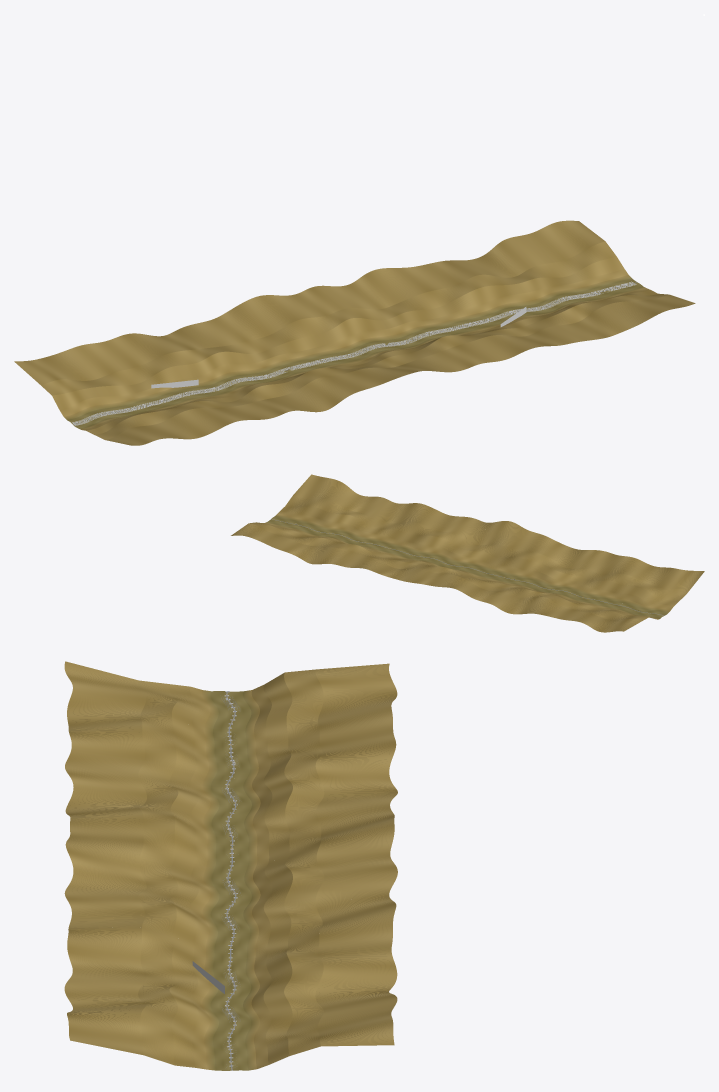
File: napa.glb
3 views of the same model, one above another, from view 1: azimuth 30°, elevation 25°; view 2: azimuth 150°, elevation 25°; view 3: azimuth 270°, elevation 25° (orthographic). The views are drawn at different scales.
Visible parts, largest first — view 1: Land_003, Land_007, Land_001, Land_005, Land_000, Land_006, Land_004, Land_002, Land_008; view 2: Land_005, Land_003, Land_002, Land_006, Land_000, Land_007, Land_004, Land_001, Land_008; view 3: Land_006, Land_002, Land_004, Land_000, Land_001, Land_005, Land_003, Land_007, Land_008.
Part boxes in pixels (x1,y1,x2,y2): Land_003: (212,295,380,412); Land_007: (478,230,625,343); Land_001: (75,333,240,437); Land_005: (349,268,513,372); Land_000: (14,347,197,445); Land_006: (399,258,567,356); Land_004: (275,284,432,384); Land_002: (155,319,312,420); Land_008: (539,220,695,330); Land_005: (356,511,491,578); Land_003: (442,531,576,602); Land_002: (486,549,624,614); Land_006: (303,503,438,567); Land_000: (581,567,704,632); Land_007: (260,494,398,559); Land_004: (393,521,529,586); Land_001: (527,556,656,622); Land_008: (231,474,357,540); Land_006: (67,926,397,993); Land_002: (65,743,397,821); Land_004: (65,833,397,908); Land_000: (64,661,397,734); Land_001: (67,707,396,779); Land_005: (64,870,396,949); Land_003: (65,802,394,864); Land_007: (64,969,397,1035); Land_008: (67,1005,394,1070).
Size of the model in its own units: 11629 by 1548 by 5455.
